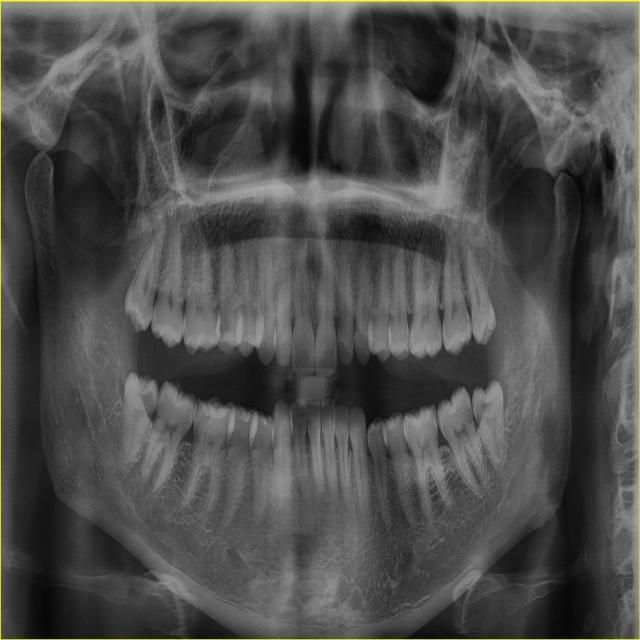Sterngold Implant: (218, 310, 230, 339), (479, 394, 494, 411), (465, 401, 473, 422), (466, 315, 473, 331), (471, 315, 476, 330)
